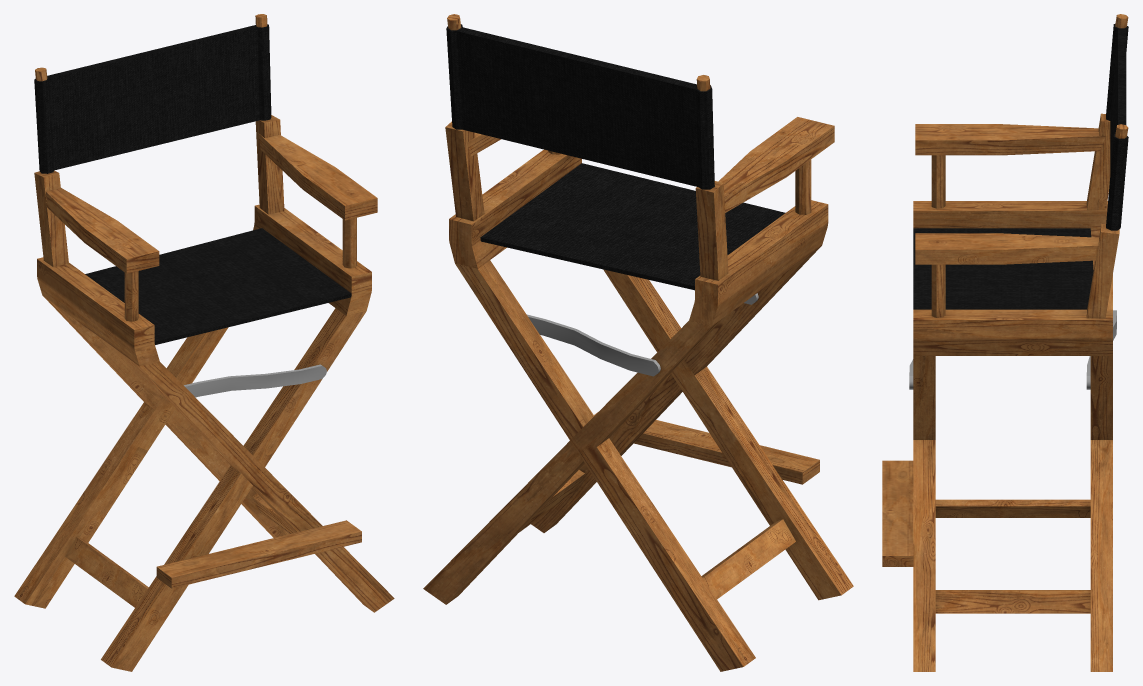
Rendered from chair1.fbx.
The picture shows the model from 3 angles, left to right: view 1: azimuth 30°, elevation 25°; view 2: azimuth 150°, elevation 25°; view 3: azimuth 270°, elevation 25°; orthographic projection. The views are drawn at different scales.
Parts seen in each view (by area): view 1: chair; view 2: chair; view 3: chair.
Part boxes in pixels (x1,y1,x2,y2): chair: (14,14,394,671); chair: (423,14,853,671); chair: (882,14,1128,671).
Size of the model in its own units: 1.04 by 1.85 by 0.7668.
Materials: 3 (3 with a texture image).
